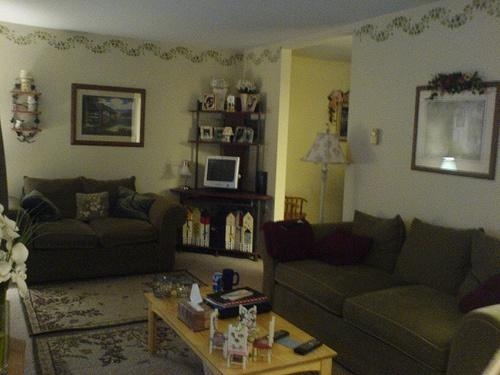sofa: (253, 209, 500, 375), (8, 174, 191, 284)
tvmonitor: (203, 156, 243, 190)
